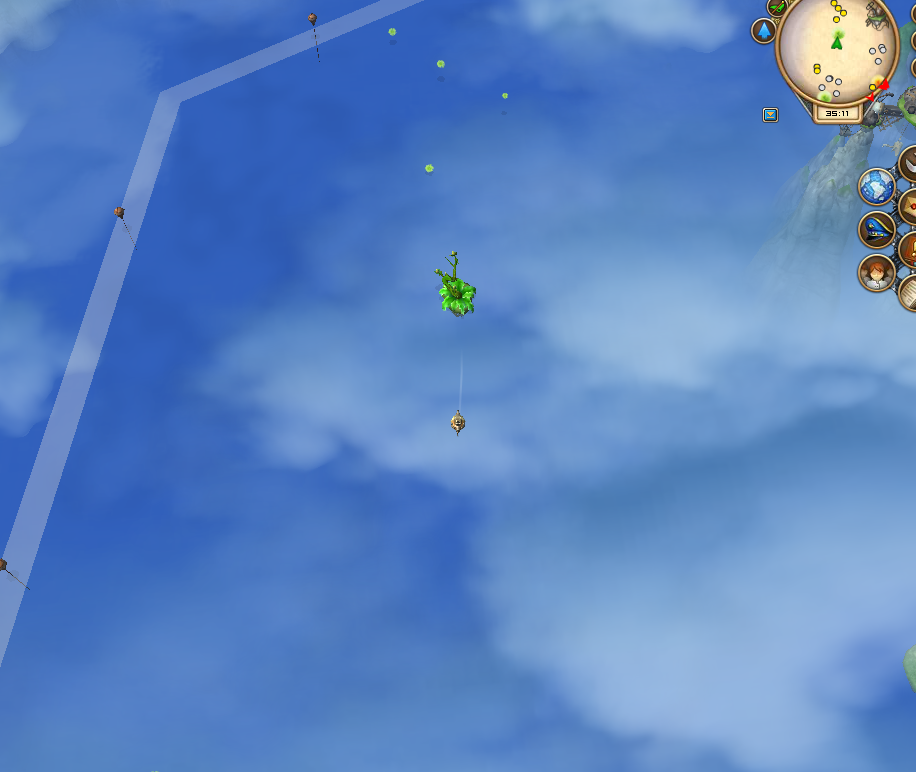dandelion-empty: (431, 247, 480, 320)
fluff: (434, 53, 448, 87), (498, 89, 511, 118), (386, 21, 400, 46), (422, 161, 436, 177)
